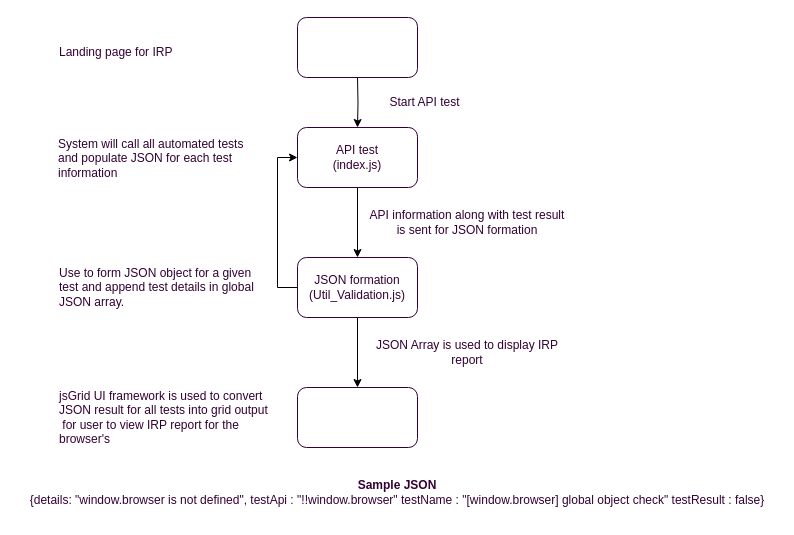
Some shapes in this 794 by 535 pixel diagram are drawn without their labels. Here are the shapes that lost their labels. From the top down, the box of each, then its label:
(296, 16, 418, 78): Landing Page (index.html)
(296, 386, 418, 448): Report Display jsGrid
